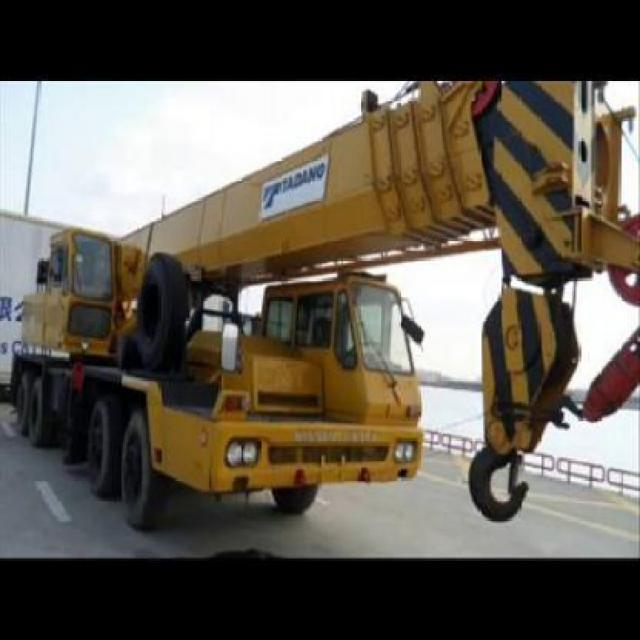Mobile Crane: (6, 79, 639, 548)
